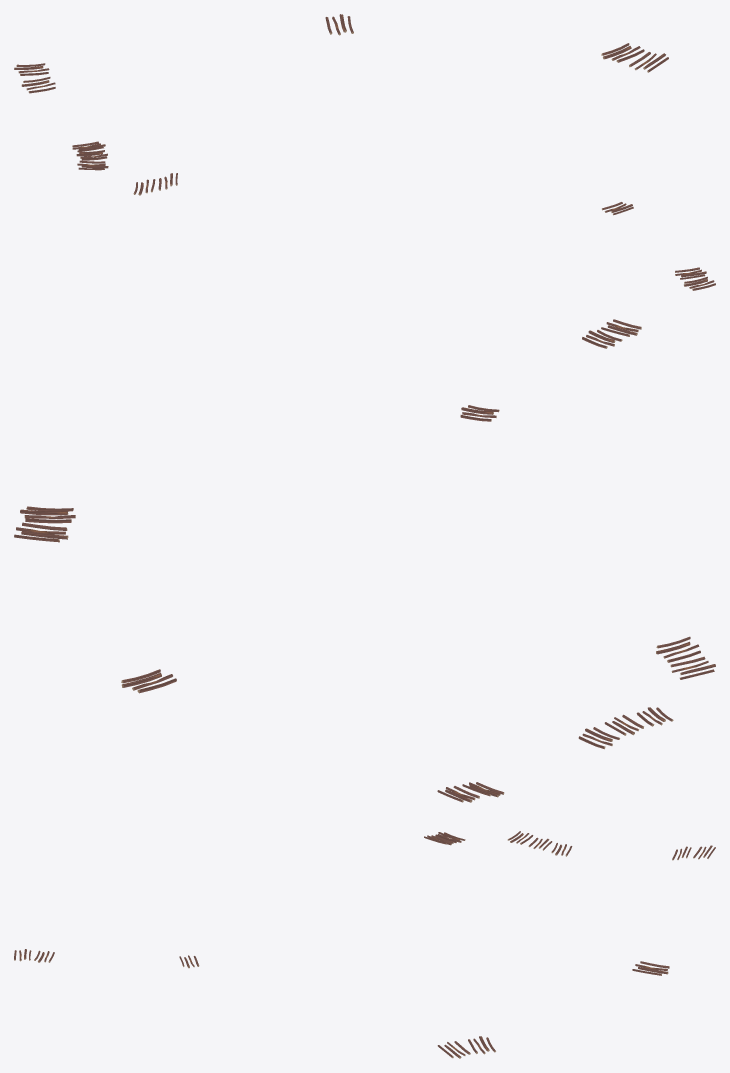
File: all_daliang_field_a_s02_no_shadow.fbx
The picture shows the model from 3 angles, top to bottom: view 1: azimuth 30°, elevation 25°; view 2: azimuth 150°, elevation 25°; view 3: azimuth 270°, elevation 25°; orthographic projection. The views are drawn at different scales.
Parts seen in each view (by area): view 1: all_daliang_field_a_s02_no_shadow; view 2: all_daliang_field_a_s02_no_shadow; view 3: all_daliang_field_a_s02_no_shadow.
Part boxes in pixels (x1,y1,x2,y2): all_daliang_field_a_s02_no_shadow: (14, 14, 715, 290); all_daliang_field_a_s02_no_shadow: (14, 319, 715, 802); all_daliang_field_a_s02_no_shadow: (14, 831, 715, 1058).
Size of the model in its own units: 8354 by 369 by 10745.
